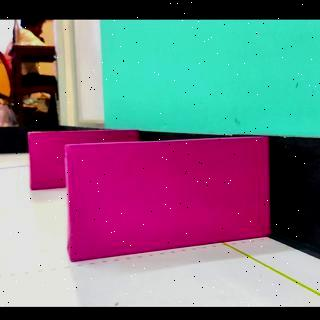xparking: (70, 145, 268, 269), (30, 132, 66, 189)
